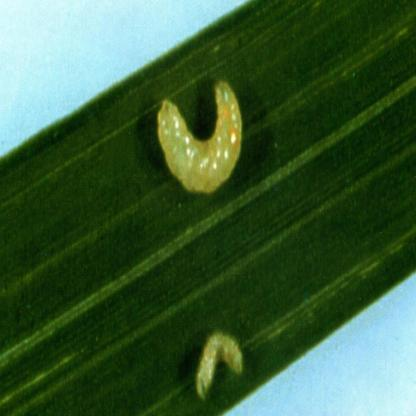whorl-maggot: (154, 76, 252, 200), (192, 321, 248, 398)
